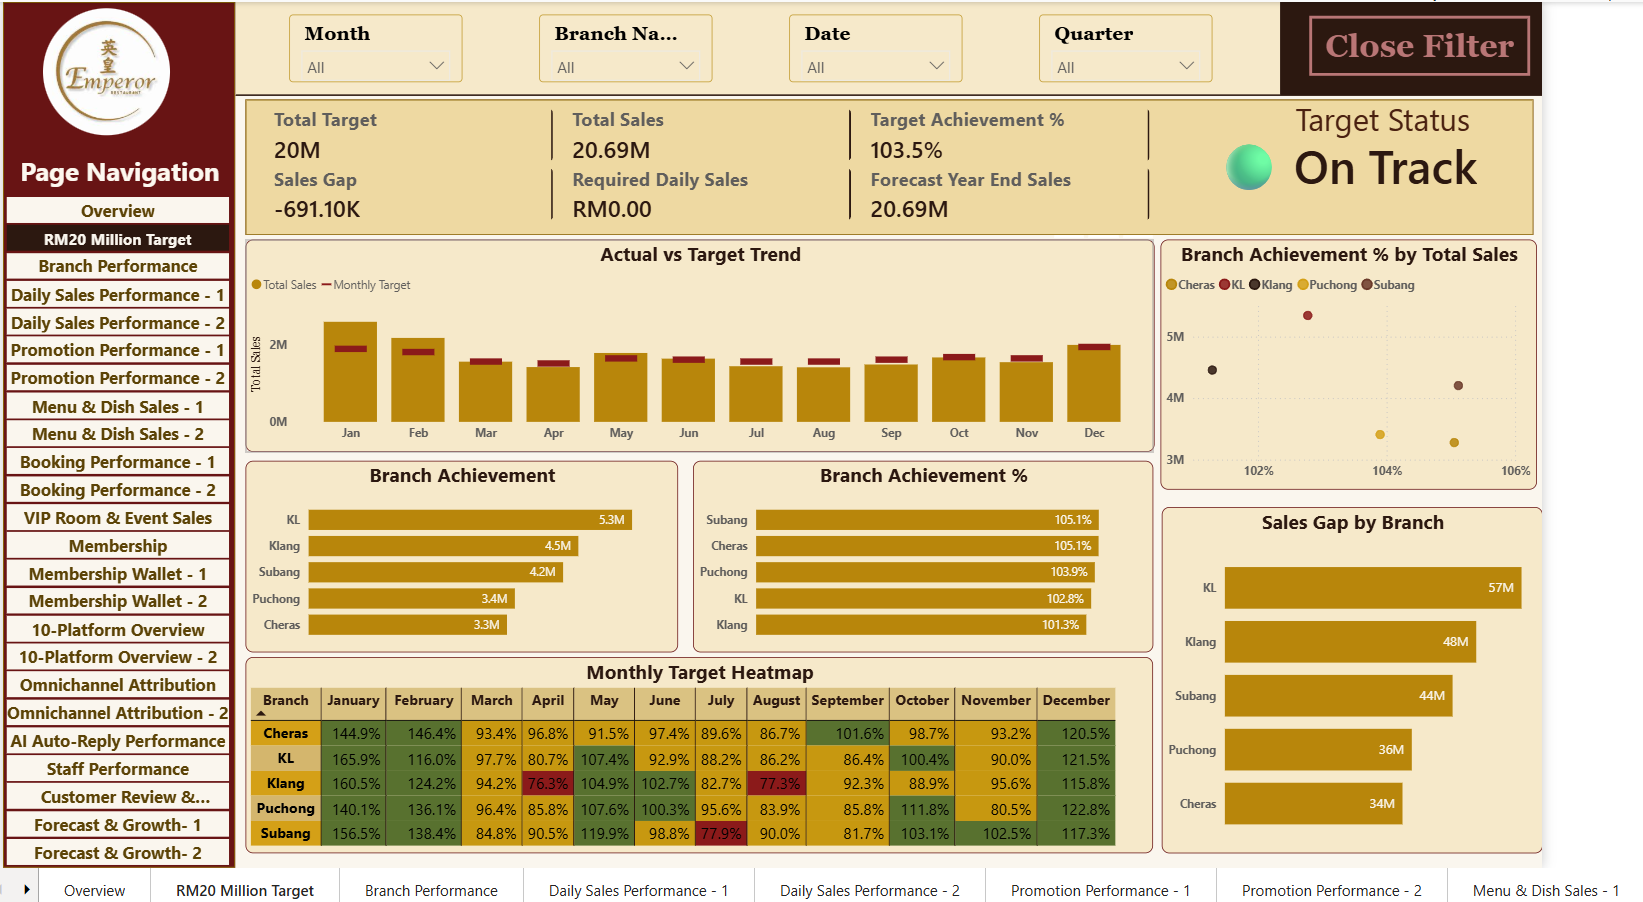

This screenshot's page, from the dashboard's own definition file:
{"tool":"powerbi","page":{"name":"RM20 Million Target","canvas":[1600,900],"ordinal":1},"visuals":[{"type":"textbox","box":[241.3,0,1359,97.4],"z":0},{"type":"lineClusteredColumnComboChart","title":"Actual vs Target Trend","fields":{"Category":["Dim_Date.MonthShort"],"Y":["__DAX_Measures.Total Sales"],"Y2":["__DAX_Measures.Monthly Target"]},"box":[251.5,247.1,944.8,220.9],"z":1000},{"type":"clusteredBarChart","title":"Branch Achievement","fields":{"Category":["Dim_Branch.BranchName1"],"Y":["__DAX_Measures.Total Sales"]},"box":[252.1,476.8,449.4,199],"z":2000},{"type":"barChart","title":"Branch Achievement %","fields":{"Category":["Dim_Branch.BranchName1"],"Y":["__DAX_Measures.Branch Achievement %"]},"box":[717,476.8,478.6,199],"z":3000},{"type":"pivotTable","title":"Monthly Target Heatmap","fields":{"Columns":["Dim_Date.MonthName"],"Rows":["Dim_Branch.BranchName1"],"Values":["__DAX_Measures.Branch Achievement %"]},"box":[252.1,681,943.4,204.1],"z":4000},{"type":"barChart","title":"Sales Gap by Branch","fields":{"Category":["Dim_Branch.BranchName1"],"Y":["__DAX_Measures.Branch Sales Gap"]},"box":[1204.1,524.9,396.2,360.2],"z":5000},{"type":"scatterChart","title":"Branch Achievement % by Total Sales","fields":{"Series":["Dim_Branch.BranchName"],"X":["__DAX_Measures.Branch Achievement %"],"Y":["__DAX_Measures.Total Sales"]},"box":[1203.5,247.1,391,260.2],"z":6000},{"type":"shape","box":[0,0,241.3,899.7],"z":7000},{"type":"shape","box":[251.5,101.7,1338.7,141],"z":8000},{"type":"cardVisual","fields":{"Data":["__DAX_Measures.Annual Target","__DAX_Measures.Total Sales","__DAX_Measures.Target Achievement %","__DAX_Measures.Sales Gap","__DAX_Measures.Required Daily Sales","__DAX_Measures.Forecast Year End Sales"]},"box":[258.7,100.3,946.2,139.5],"z":9000},{"type":"cardVisual","fields":{"Data":["__DAX_Measures.Target Status"]},"box":[1216.6,95.9,363.4,143.9],"z":10000},{"type":"shape","box":[241.3,0,1085.8,95.9],"z":11000},{"type":"slicer","fields":{"Values":["Dim_Date.MonthName"]},"box":[298,13.1,180,70],"z":12000},{"type":"slicer","fields":{"Values":["Dim_Branch.BranchName"]},"box":[557.7,13.1,180,70],"z":13000},{"type":"slicer","fields":{"Values":["Dim_Date.Date"]},"box":[817.3,13.1,180,70],"z":14000},{"type":"slicer","fields":{"Values":["Dim_Date.Quarter"]},"box":[1077,13.1,180,70],"z":15000},{"type":"textbox","box":[1338.7,94.5,191.9,53.8],"z":16000},{"type":"actionButton","title":"Close Filter","box":[1357.6,14.5,229.7,62.5],"z":17000},{"type":"image","box":[41.9,6.2,131.9,131.9],"z":20000},{"type":"pageNavigator","box":[4.4,202.3,231.1,697.7],"z":20001},{"type":"textbox","box":[0,152.6,242.7,46.5],"z":20002}]}

Visuals, with their boxes on the page's 1600x900 design canvas (x1, y1, x2, y2). These are canvas units, not pixel positions in the 1643x902 screenshot, which may show the page scaled, cropped or inside an application window:
textbox: (241, 0, 1600, 97)
"Actual vs Target Trend" lineClusteredColumnComboChart: (252, 247, 1196, 468)
"Branch Achievement" clusteredBarChart: (252, 477, 702, 676)
"Branch Achievement %" barChart: (717, 477, 1196, 676)
"Monthly Target Heatmap" pivotTable: (252, 681, 1196, 885)
"Sales Gap by Branch" barChart: (1204, 525, 1600, 885)
"Branch Achievement % by Total Sales" scatterChart: (1204, 247, 1594, 507)
shape: (0, 0, 241, 900)
shape: (252, 102, 1590, 243)
cardVisual - __DAX_Measures.Annual Target x __DAX_Measures.Total Sales: (259, 100, 1205, 240)
cardVisual - __DAX_Measures.Target Status: (1217, 96, 1580, 240)
shape: (241, 0, 1327, 96)
slicer - Dim_Date.MonthName: (298, 13, 478, 83)
slicer - Dim_Branch.BranchName: (558, 13, 738, 83)
slicer - Dim_Date.Date: (817, 13, 997, 83)
slicer - Dim_Date.Quarter: (1077, 13, 1257, 83)
textbox: (1339, 94, 1531, 148)
"Close Filter" actionButton: (1358, 14, 1587, 77)
image: (42, 6, 174, 138)
pageNavigator: (4, 202, 236, 900)
textbox: (0, 153, 243, 199)
